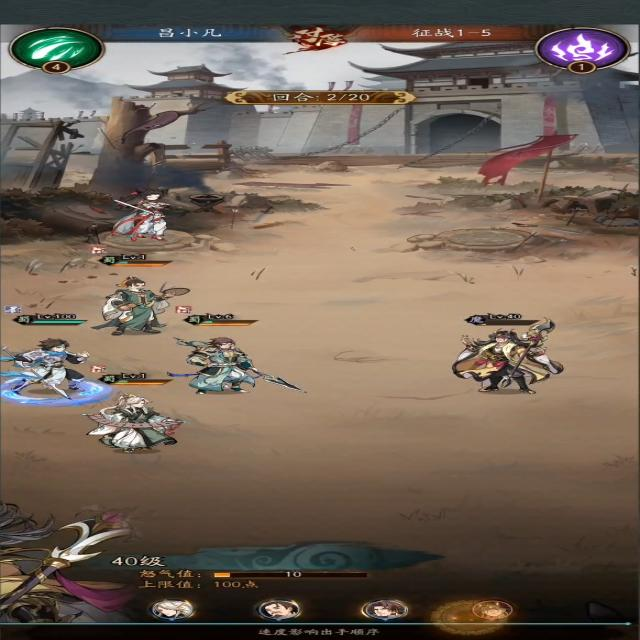hint-guide: (248, 625, 385, 640)
